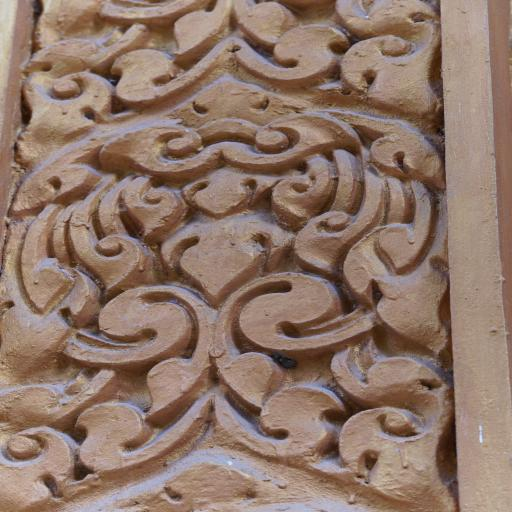la: (0, 86, 465, 512), (24, 0, 446, 119)
